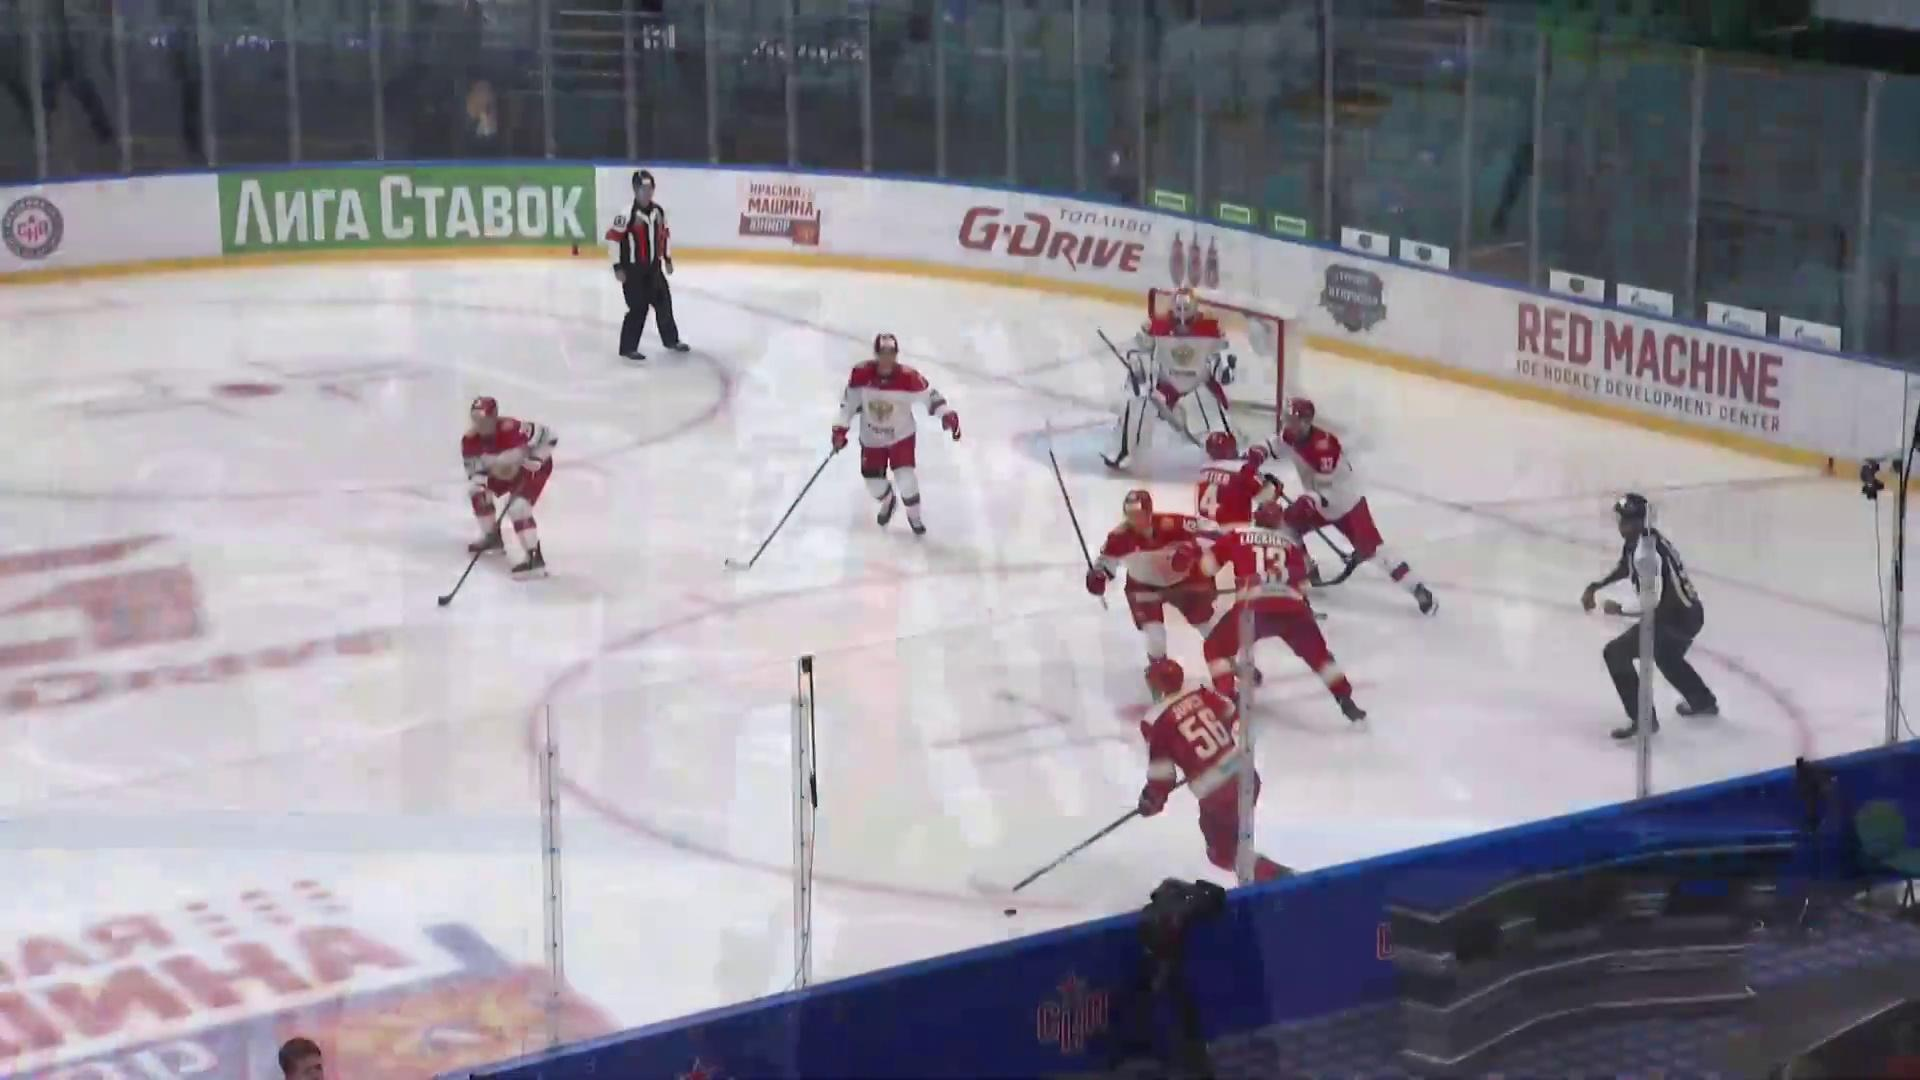ball: (1002, 906, 1019, 918)
